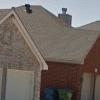Chimney: (52, 4, 76, 35)
